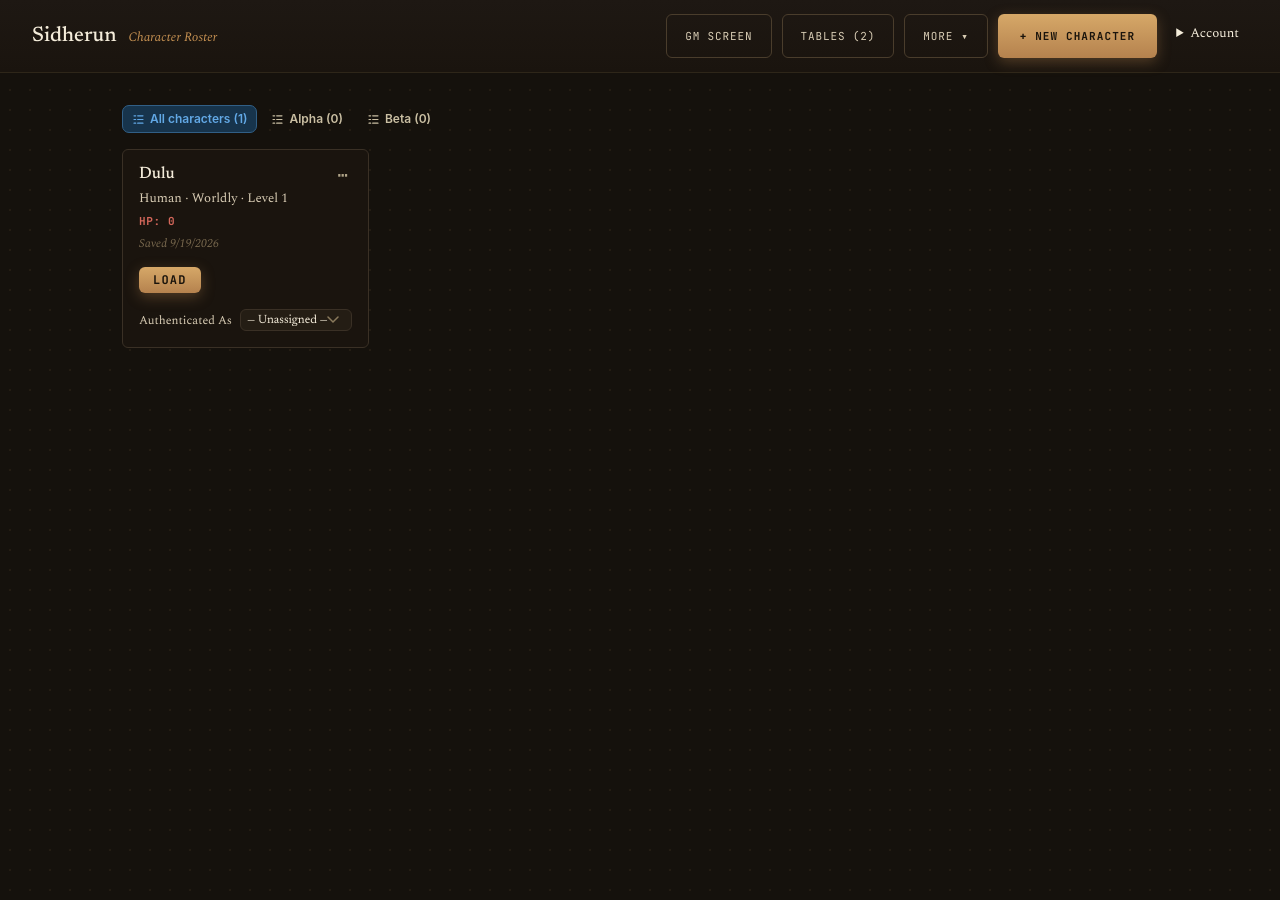
Test: RosterPage authenticated table membership › refetches and safely retries a conflict while surfacing it to the GM
Click the button named "More options for Dulu" at (343, 175), box [328, 160, 358, 190]
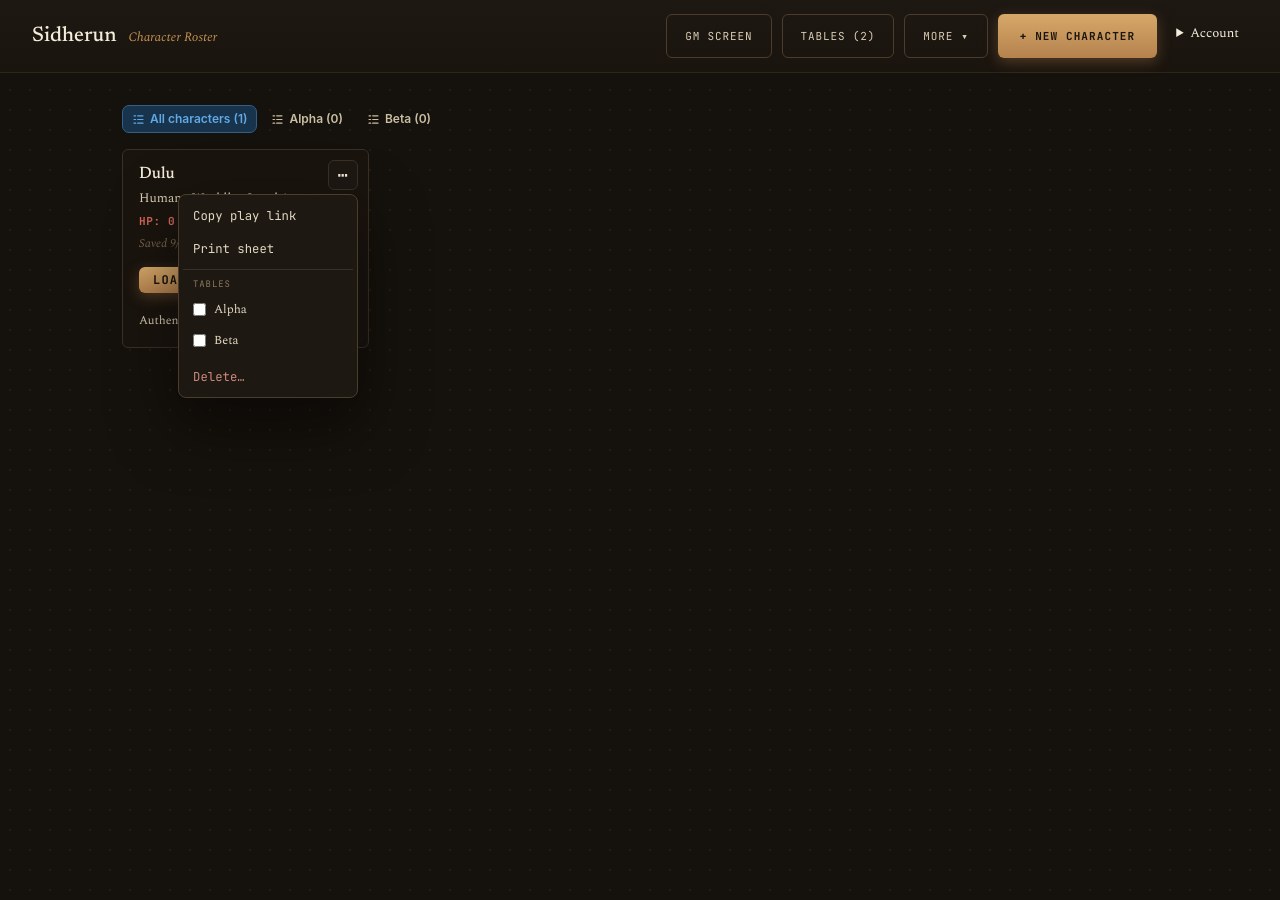
Click the checkbox labelled "Alpha" at (200, 310), box [193, 303, 206, 316]
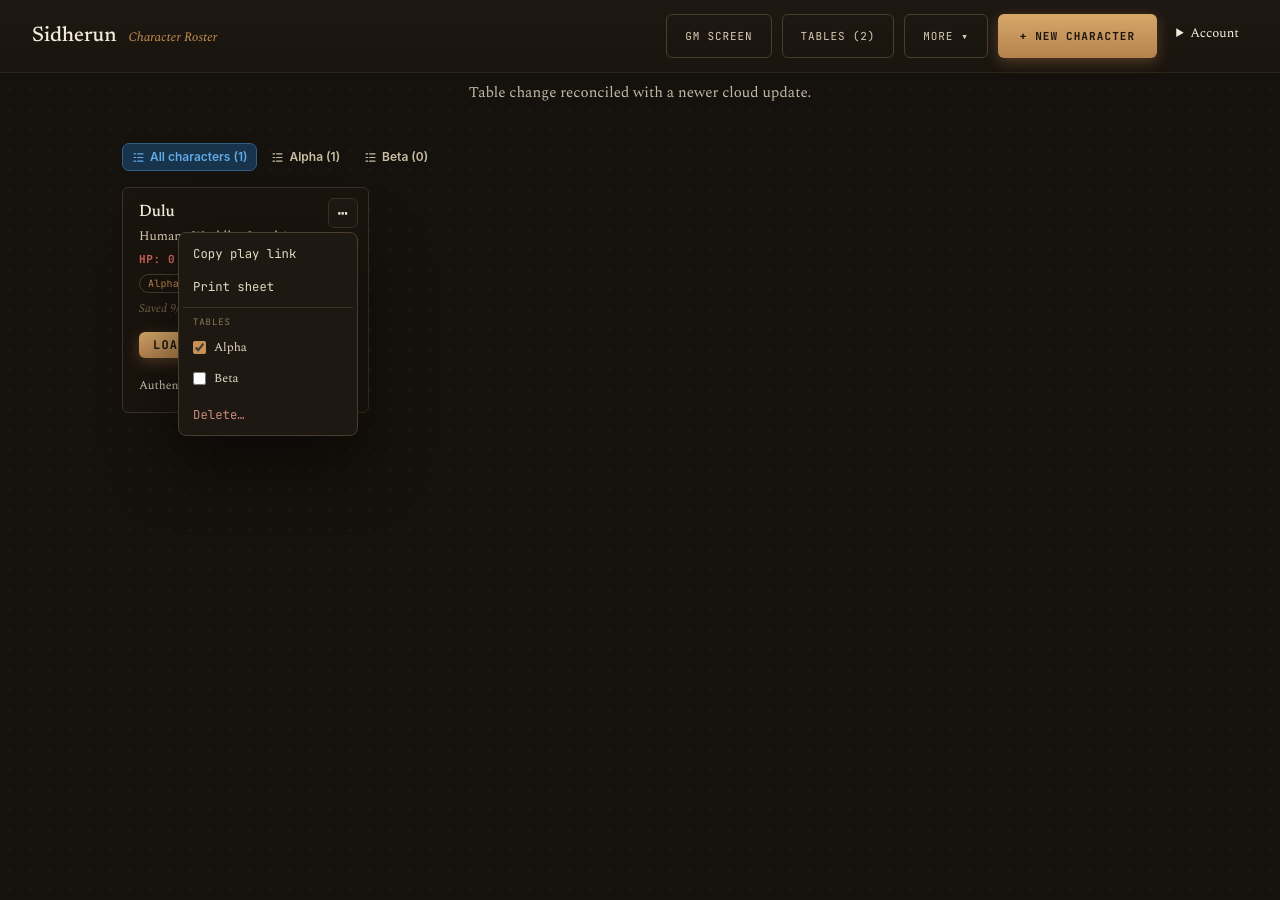
Expected: the text "Table change reconciled with a newer cloud update." is shown, [469, 80, 811, 104]
